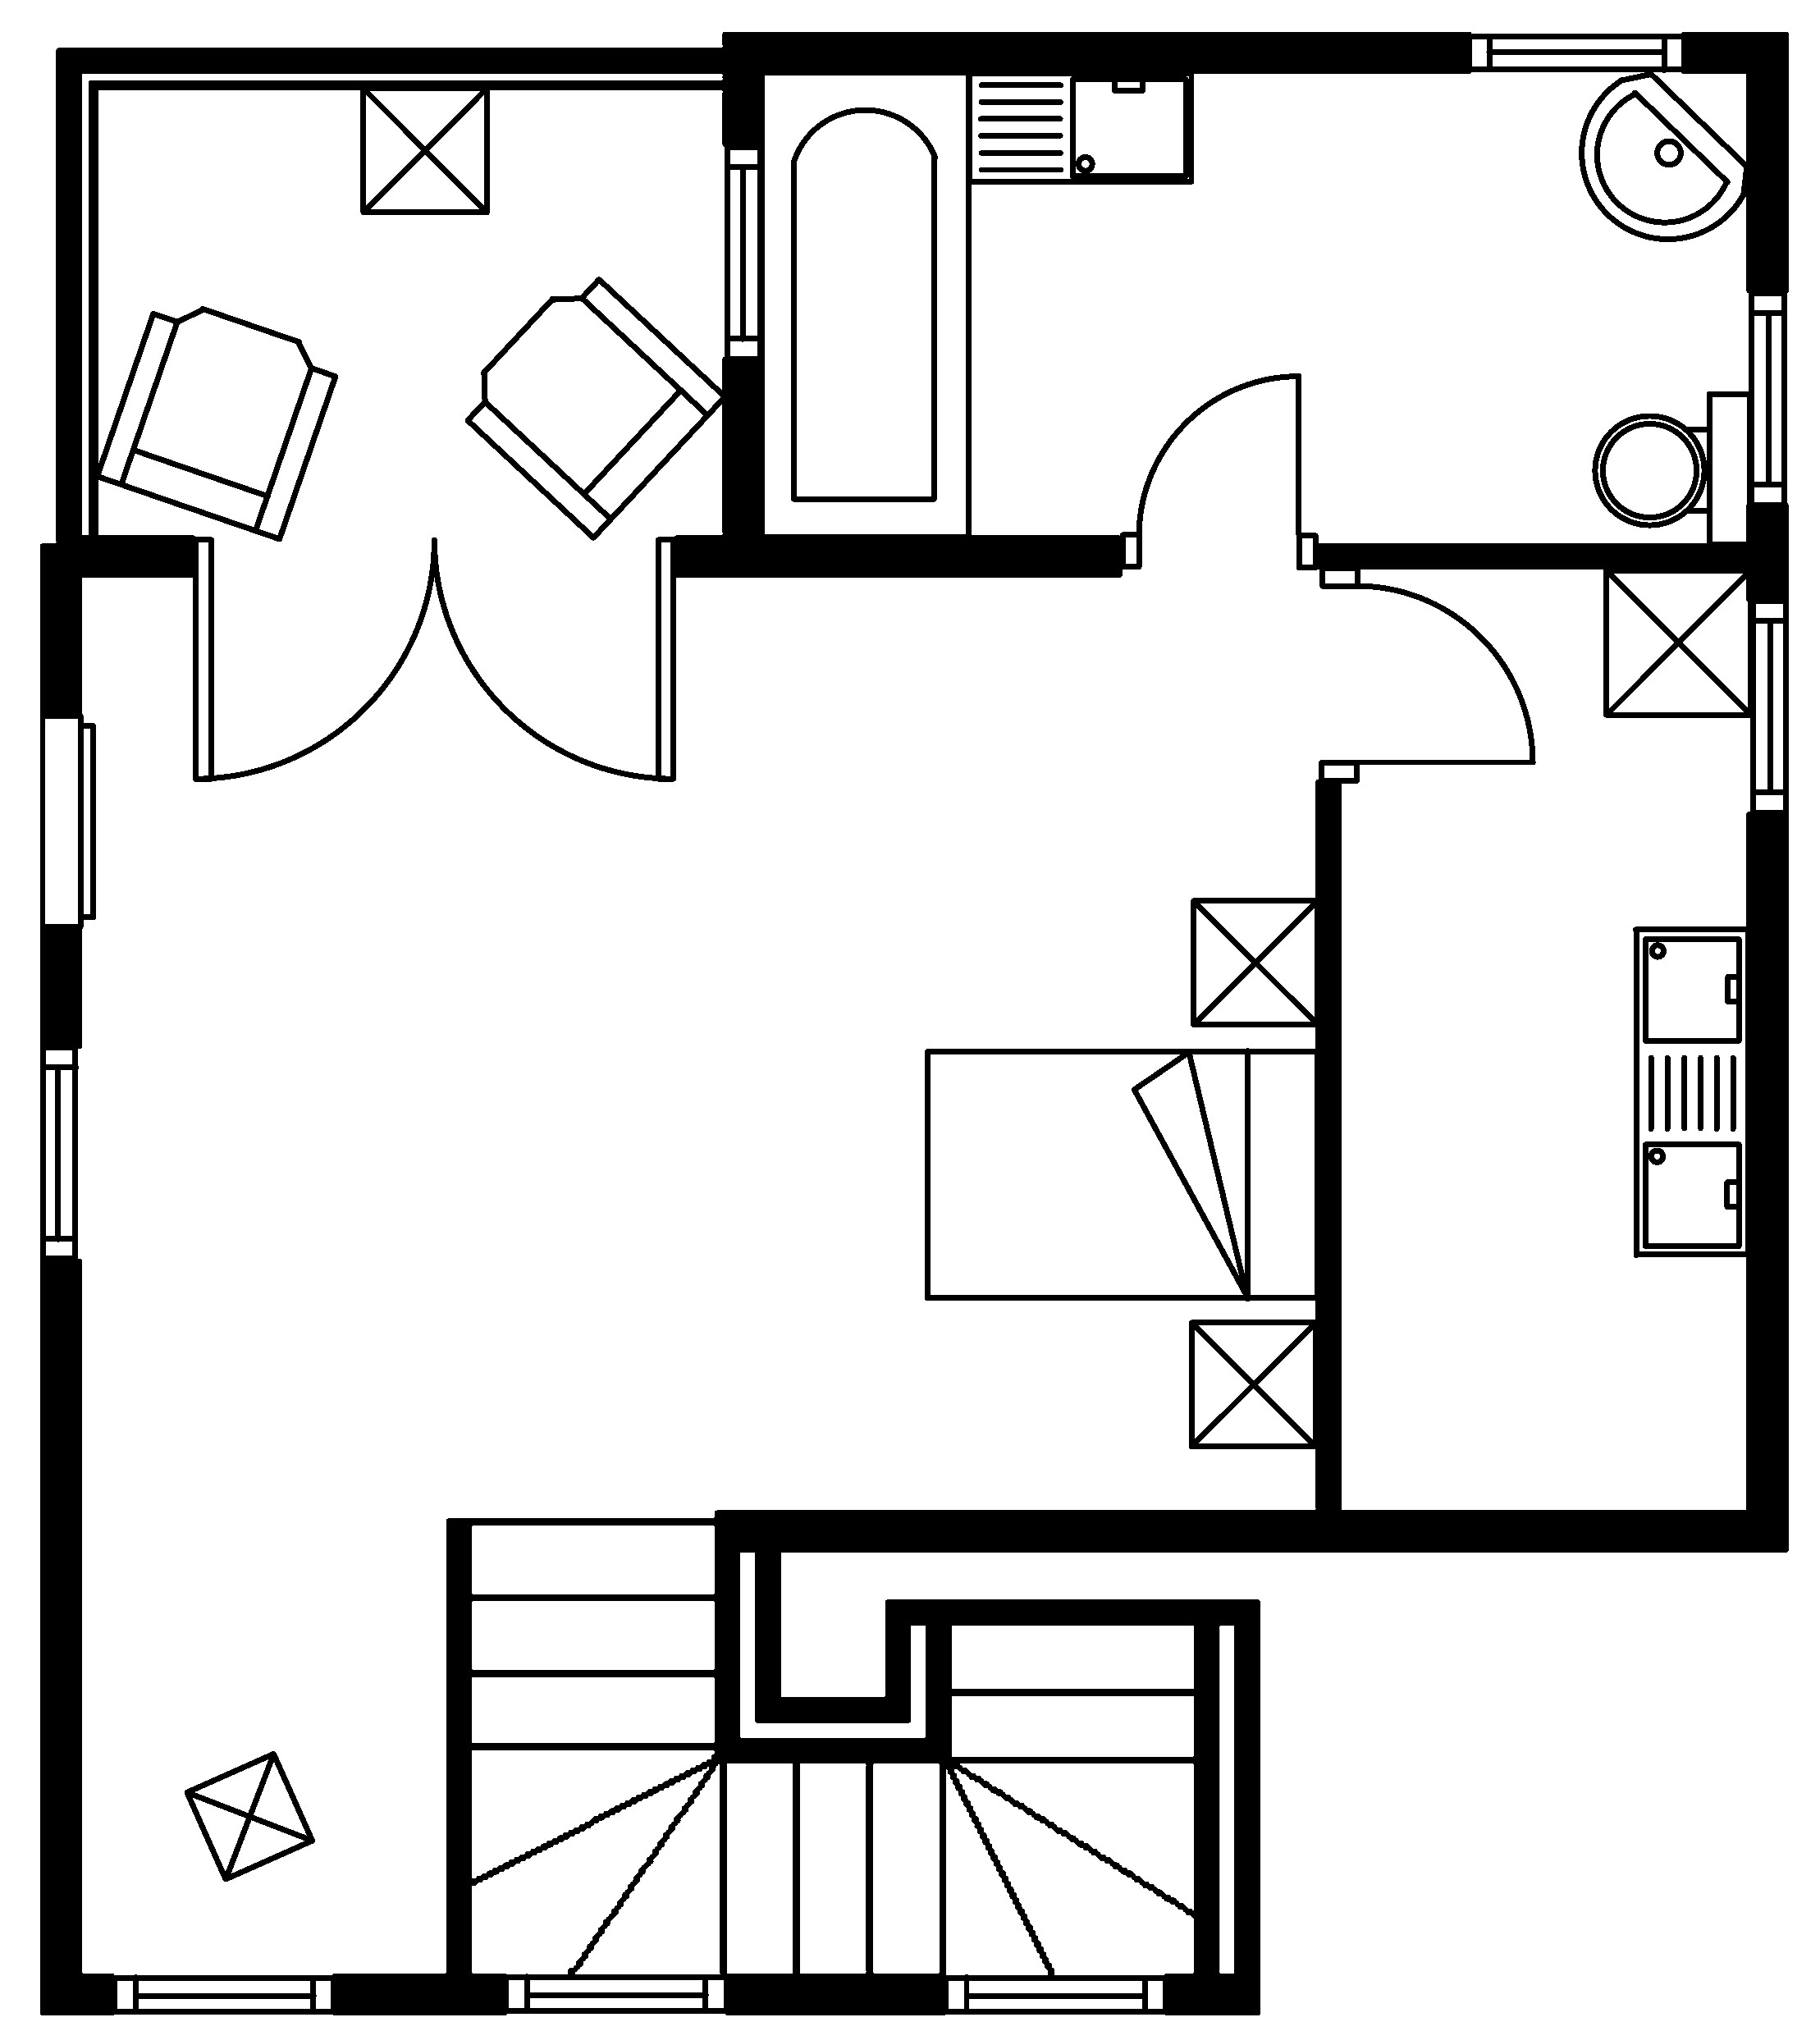armchair: (462, 274, 727, 541), (93, 304, 337, 543)
bed: (922, 1047, 1321, 1302)
coffee_table: (1602, 566, 1753, 719), (1186, 1318, 1319, 1449), (183, 1750, 314, 1882), (1189, 896, 1321, 1028), (358, 84, 490, 214)
large_sink: (1592, 388, 1753, 548)
sink: (964, 69, 1195, 184)
small_sink: (1578, 70, 1750, 241)
tub: (757, 69, 971, 539)
twin_sink: (1630, 924, 1751, 1258)
